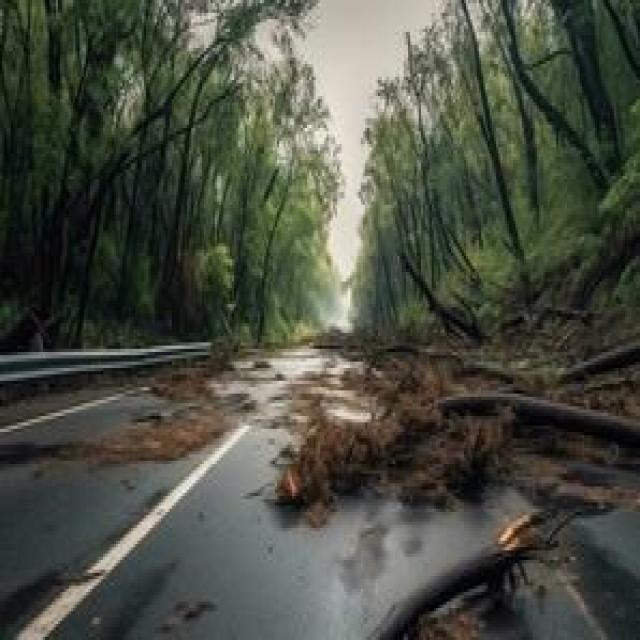road collapse: (48, 141, 640, 640)
